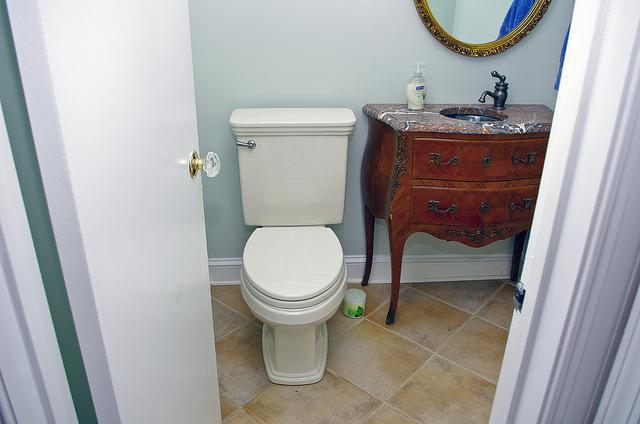Lavamanos: (436, 69, 519, 128)
Sanitario: (225, 109, 358, 388)
